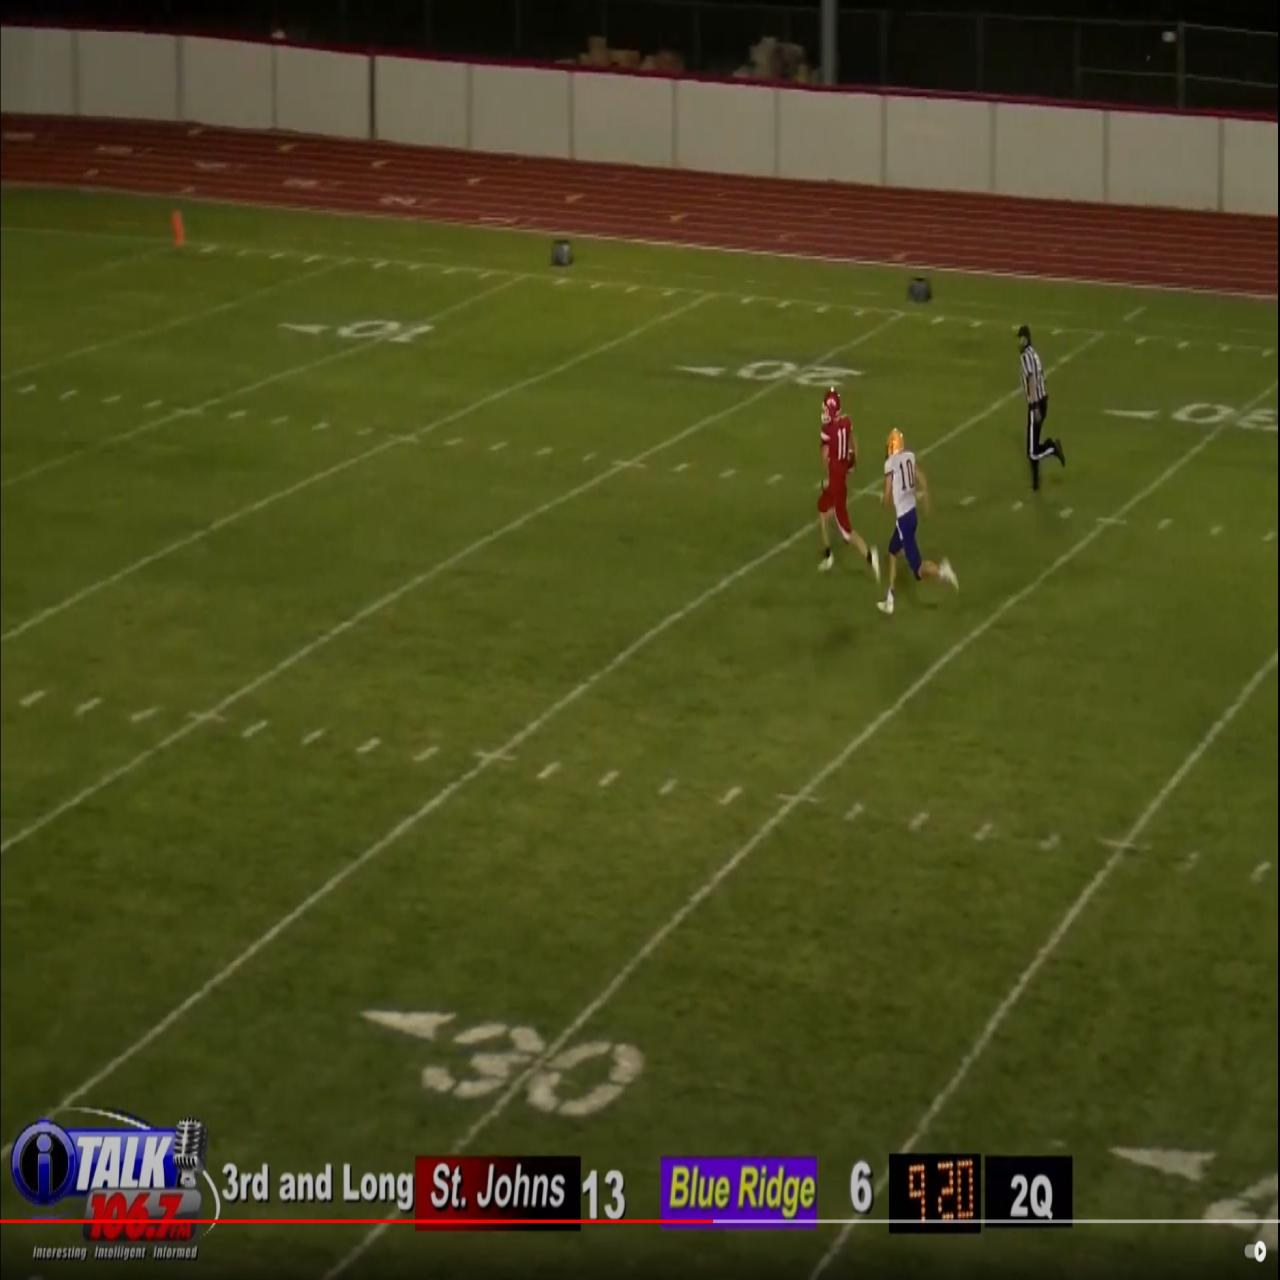10L: (279, 314, 433, 347)
20L: (668, 353, 863, 389)
30L: (359, 1001, 646, 1123), (1102, 399, 1280, 436)
40L: (1107, 1142, 1280, 1258)
